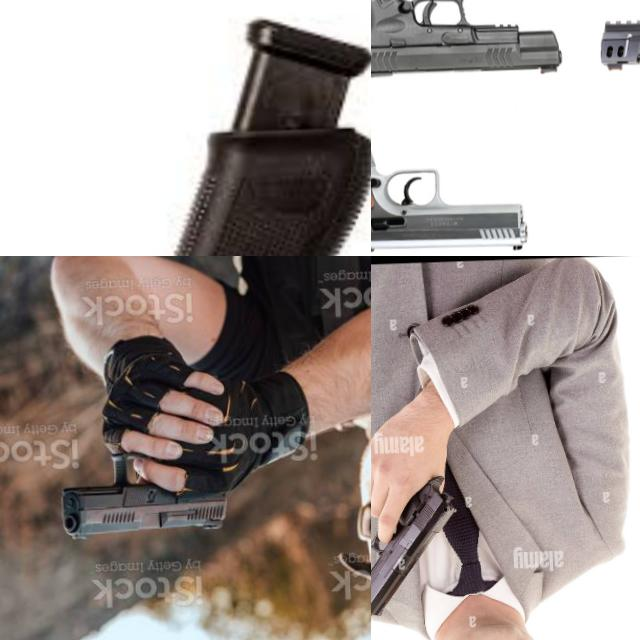handgun: (0, 9, 371, 256), (371, 90, 529, 256), (54, 437, 235, 542), (371, 0, 564, 84), (371, 460, 464, 622)
